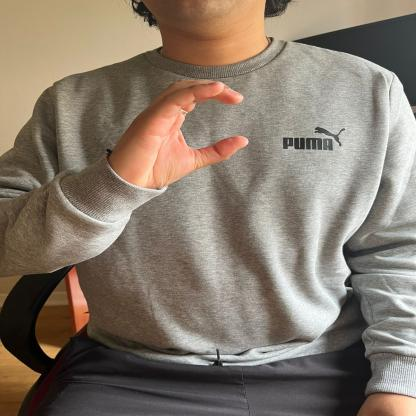C: (110, 68, 258, 193)
